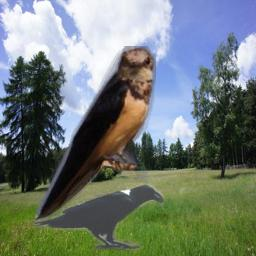Crow: (32, 183, 164, 250)
Swallow: (35, 46, 156, 226)
